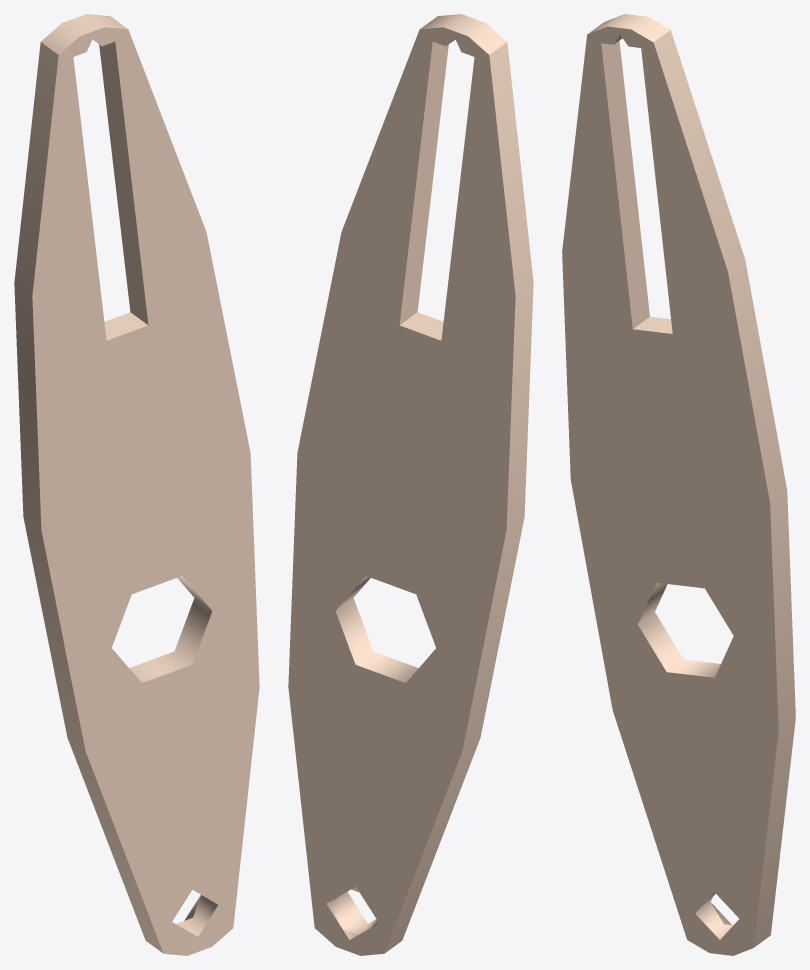
Rendered from Invereur - plaque.obj.
3 views of the same model, side by side, from view 1: azimuth 30°, elevation 25°; view 2: azimuth 150°, elevation 25°; view 3: azimuth 330°, elevation 25° (orthographic). The views are drawn at different scales.
Parts seen in each view (by area): view 1: Face_6, Face_3, Face_10, Face_8, Face_2, Face_9, Face_11; view 2: Face_7, Face_3, Face_10, Face_8, Face_2, Face_9, Face_11; view 3: Face_6, Face_5, Face_12, Face_8, Face_2, Face_9.
Part boxes in pixels (x1=…): Face_6: x1=32, y1=27, x2=259, y2=955; Face_3: x1=14, y1=42, x2=162, y2=952; Face_10: x1=99, y1=42, x2=148, y2=324; Face_8: x1=129, y1=576, x2=212, y2=682; Face_2: x1=41, y1=14, x2=127, y2=54; Face_9: x1=176, y1=895, x2=217, y2=936; Face_11: x1=104, y1=312, x2=147, y2=340; Face_7: x1=288, y1=27, x2=515, y2=955; Face_3: x1=385, y1=42, x2=533, y2=952; Face_10: x1=399, y1=42, x2=448, y2=324; Face_8: x1=335, y1=576, x2=418, y2=682; Face_2: x1=420, y1=14, x2=506, y2=54; Face_9: x1=331, y1=889, x2=377, y2=934; Face_11: x1=400, y1=312, x2=443, y2=340; Face_6: x1=562, y1=26, x2=778, y2=955; Face_5: x1=653, y1=30, x2=795, y2=947; Face_12: x1=601, y1=41, x2=649, y2=328; Face_8: x1=638, y1=582, x2=720, y2=677; Face_2: x1=588, y1=14, x2=670, y2=42; Face_9: x1=695, y1=892, x2=732, y2=939.
Bounding box in the file's own units: 0.0146 × 0.0581 × 0.002.
